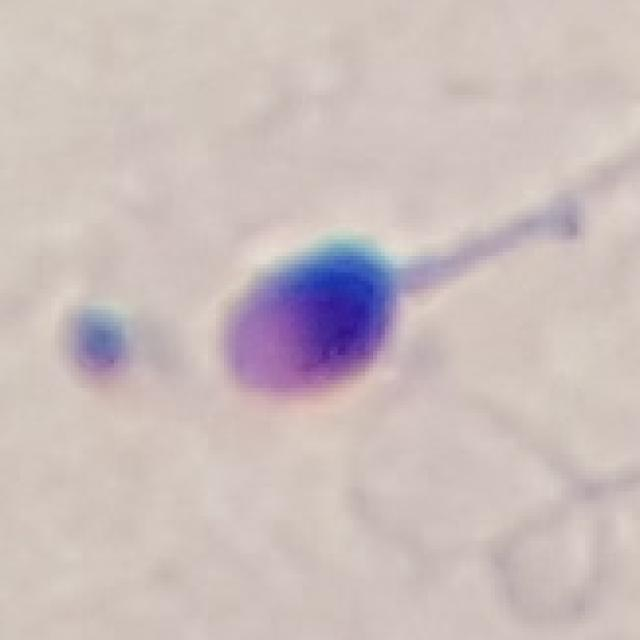normal sperm: (211, 217, 589, 405)
